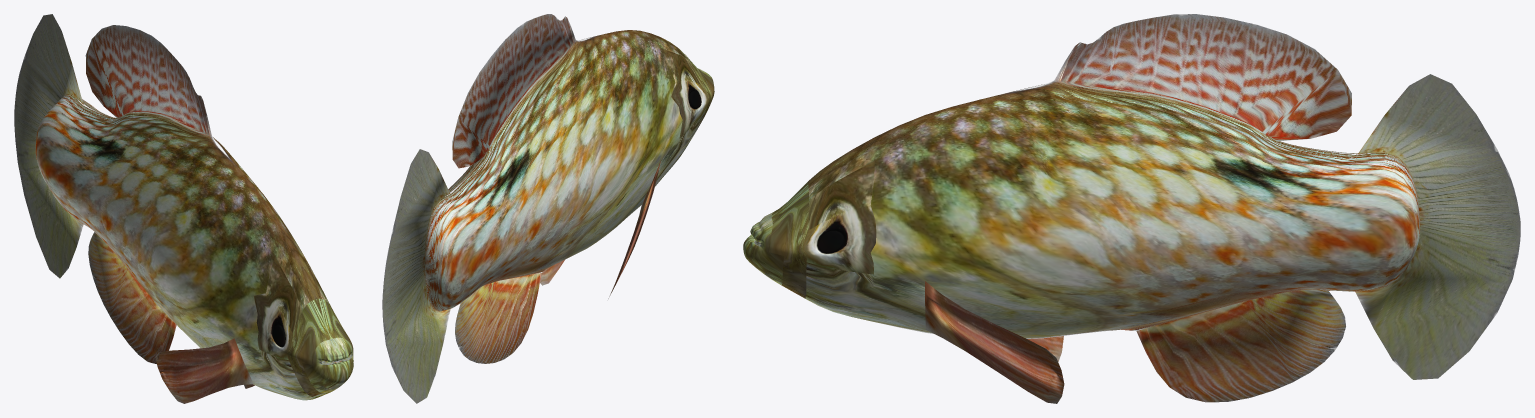
The model's file is Fish.fbx.
3 views of the same model, side by side, from view 1: azimuth 30°, elevation 25°; view 2: azimuth 150°, elevation 25°; view 3: azimuth 270°, elevation 25° (orthographic). The views are drawn at different scales.
Visible parts, largest first — view 1: Fish; view 2: Fish; view 3: Fish.
Part boxes in pixels (left/top/right/bottom): Fish: left=14, top=14, right=353, bottom=403; Fish: left=382, top=14, right=714, bottom=403; Fish: left=743, top=14, right=1520, bottom=403.
Size of the model in its own units: 9.33 by 25.94 by 47.08.
1 material, 1 textured.
